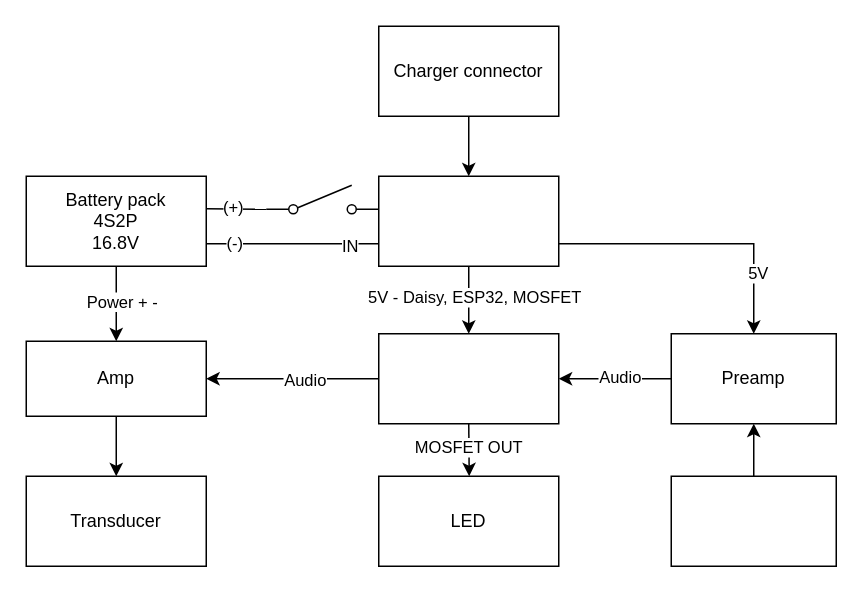
Some shapes in this 863 by 605 pixel diagram are drawn without their labels. Each missing label, with the box of its shape:
Board: (377, 332, 559, 424)
Piezo: (670, 475, 836, 566)
Step-down 5V: (377, 175, 559, 266)
